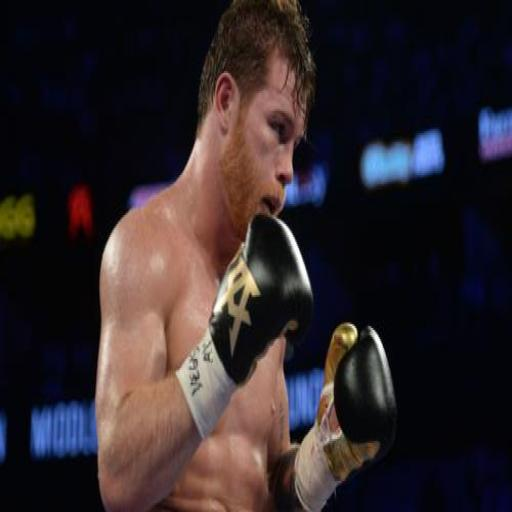boxing: (93, 0, 397, 510)
